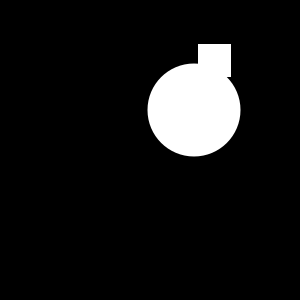circle: (198, 44, 231, 77)
rectangle: (147, 63, 240, 156)
